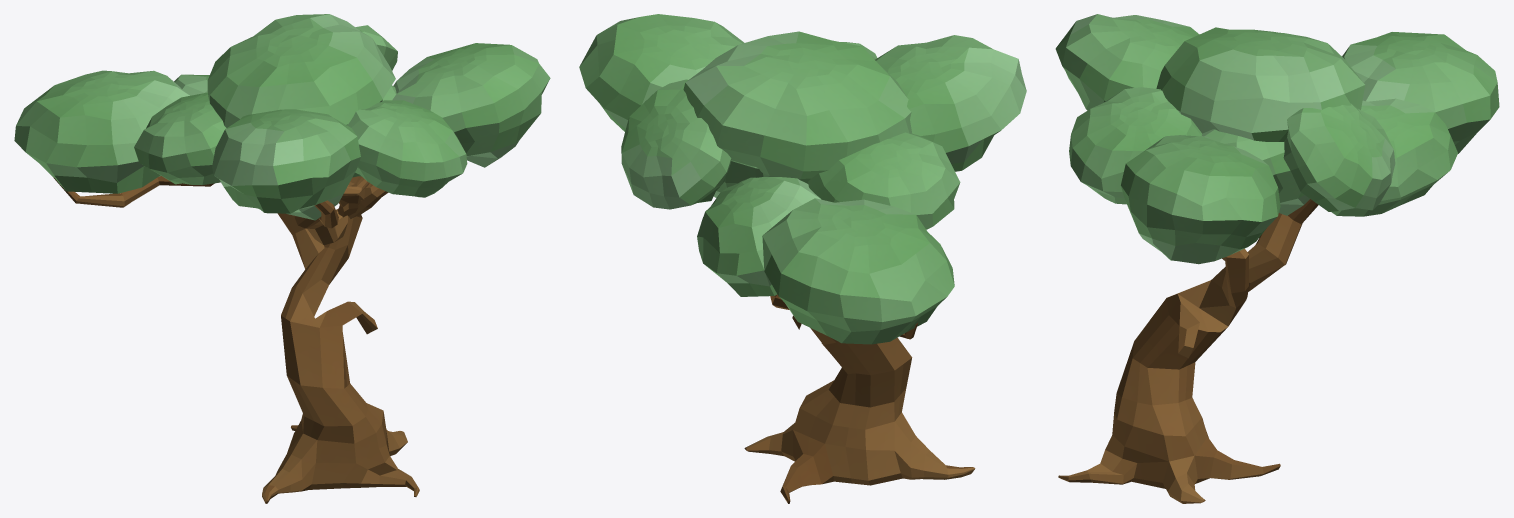
The model's file is tree_1_c.glb.
The picture shows the model from 3 angles, left to right: view 1: azimuth 30°, elevation 25°; view 2: azimuth 150°, elevation 25°; view 3: azimuth 270°, elevation 25°; orthographic projection. The views are drawn at different scales.
Visible parts, largest first — view 1: crown_1_c, trunk_1_c; view 2: crown_1_c, trunk_1_c; view 3: crown_1_c, trunk_1_c.
Boxes of the visible parts, left/top/right/bottom form: crown_1_c: left=14, top=14, right=550, bottom=220; trunk_1_c: left=53, top=176, right=419, bottom=503; crown_1_c: left=579, top=14, right=1026, bottom=344; trunk_1_c: left=744, top=294, right=975, bottom=503; crown_1_c: left=1055, top=14, right=1499, bottom=264; trunk_1_c: left=1058, top=199, right=1318, bottom=503.
Bounding box in the file's own units: 4.75 × 4.32 × 4.05.
Materials: 1 (1 with a texture image).
